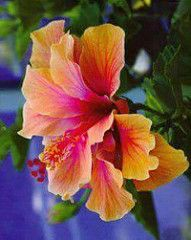Hibiscus: (15, 24, 189, 219)
